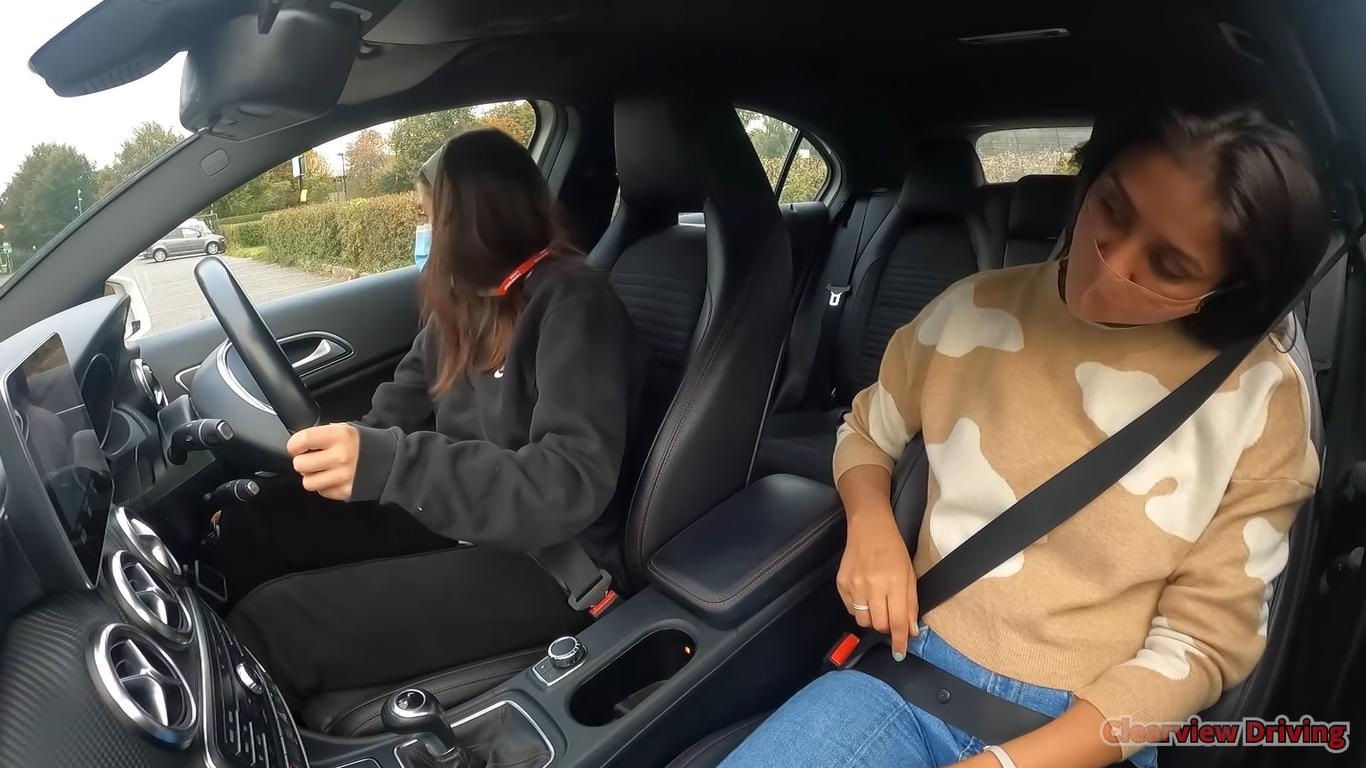seatbelt: (982, 274, 1187, 700), (407, 280, 600, 587)
